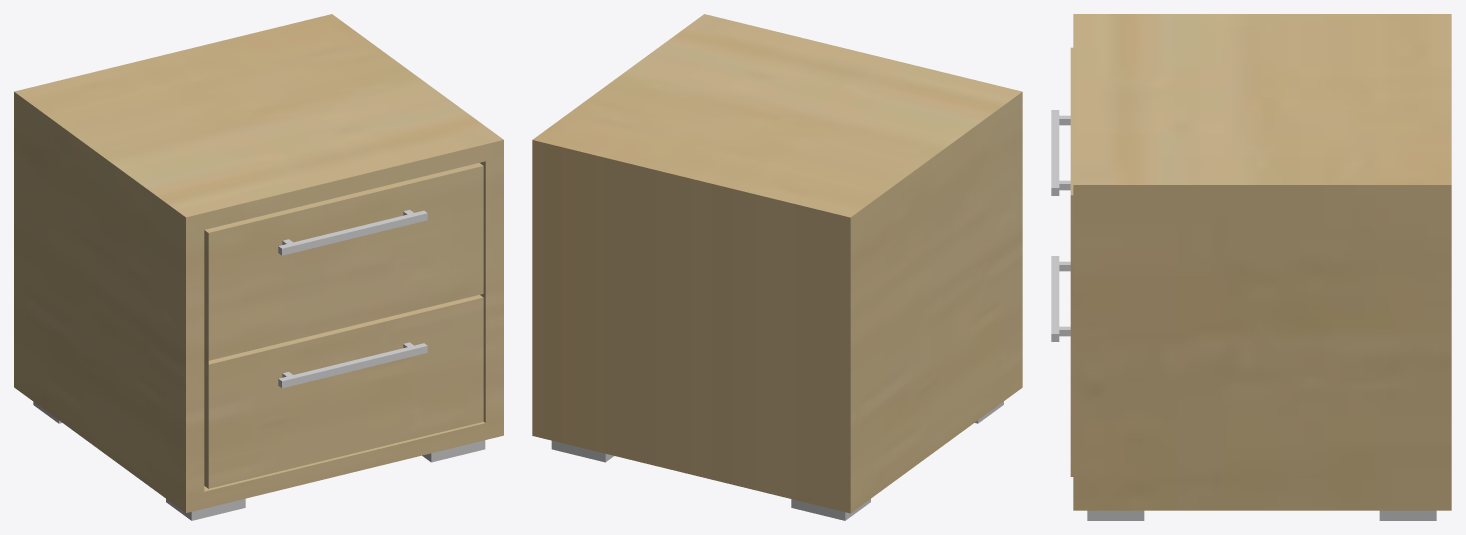
File: b0-bedsidetable2.glb
3 renders of one model, left to right at view 1: azimuth 30°, elevation 25°; view 2: azimuth 150°, elevation 25°; view 3: azimuth 270°, elevation 25°, orthographic. The views are drawn at different scales.
Parts seen in each view (by area): view 1: bedside_table.001_Cube.005; view 2: bedside_table.001_Cube.005; view 3: bedside_table.001_Cube.005.
Boxes of the visible parts, x1,y1,x2,y2 form: bedside_table.001_Cube.005: [14, 14, 503, 520]; bedside_table.001_Cube.005: [532, 14, 1022, 520]; bedside_table.001_Cube.005: [1051, 14, 1451, 520].
Size of the model in its own units: 0.4855 by 0.454 by 0.481.
Materials: 3 (1 with a texture image).
